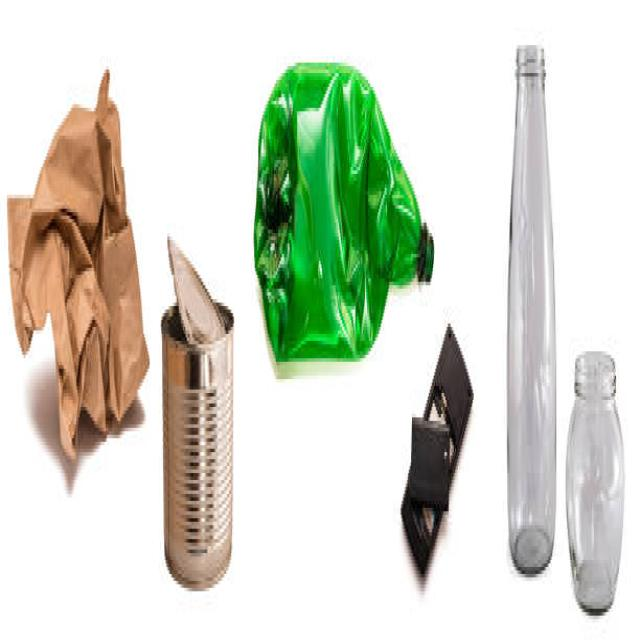metal: (152, 230, 244, 608)
paper: (7, 73, 144, 428)
plastic: (252, 45, 437, 383)
